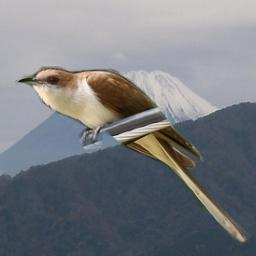Cuckoo: (15, 66, 251, 247)
